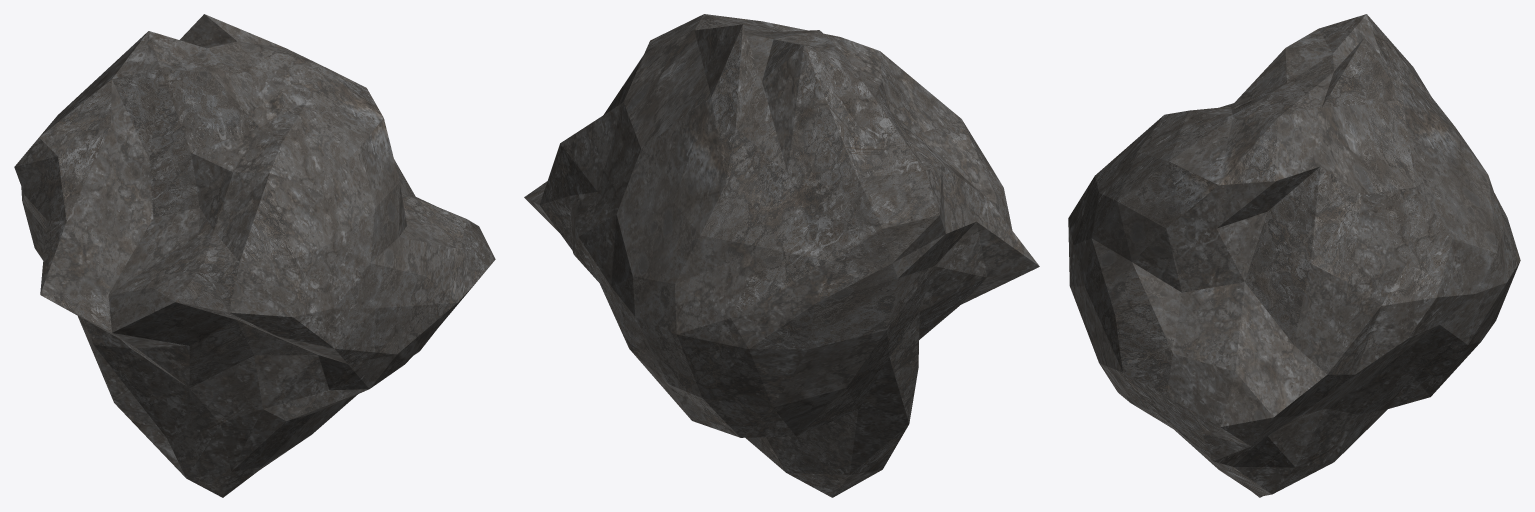
The model's file is SNSS_Lmain_Asteroid004.fbx.
3 renders of one model, left to right at view 1: azimuth 30°, elevation 25°; view 2: azimuth 150°, elevation 25°; view 3: azimuth 270°, elevation 25°, orthographic. The views are drawn at different scales.
Parts seen in each view (by area): view 1: Asteriod_04; view 2: Asteriod_04; view 3: Asteriod_04.
Boxes of the visible parts, x1,y1,x2,y2 form: Asteriod_04: (14, 14, 495, 497); Asteriod_04: (524, 14, 1039, 497); Asteriod_04: (1068, 14, 1520, 497).
Bounding box in the file's own units: 875 × 831 × 716.
